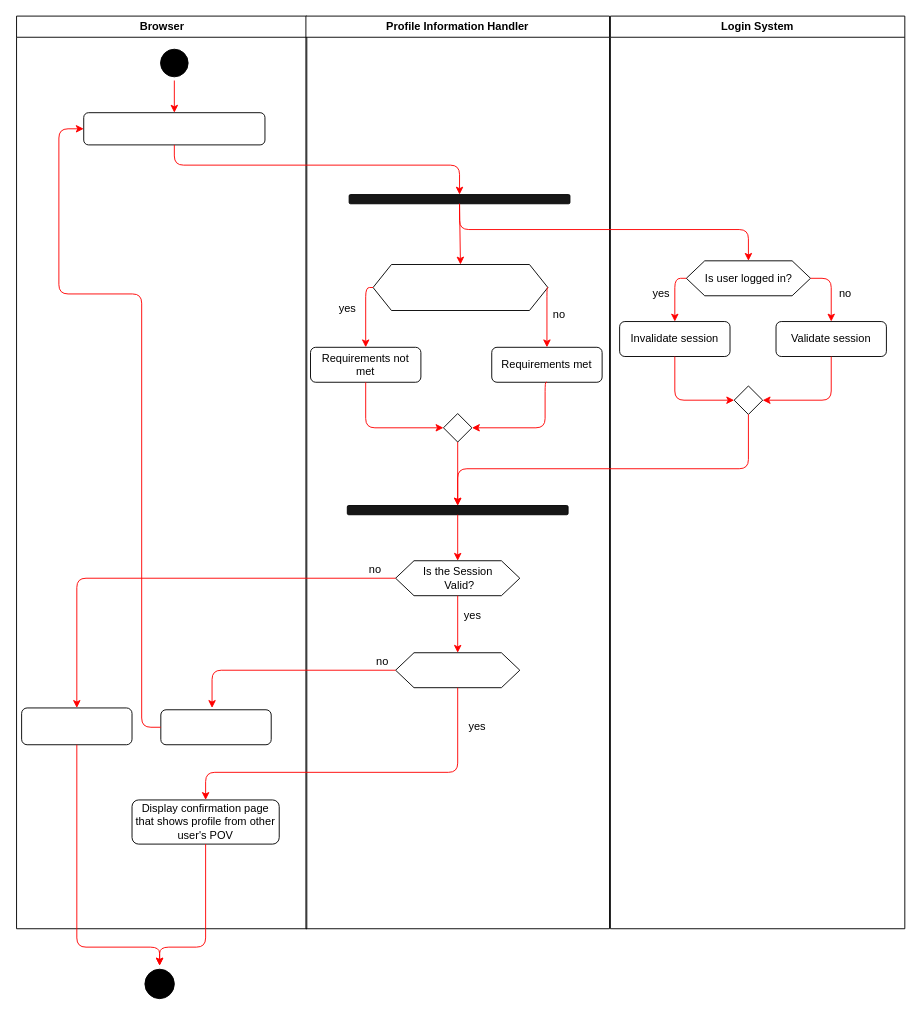
Some shapes in this 921 by 1018 pixel diagram are drawn without their labels. The centre of each missing label's shape, as x and y in pixels:
"Are required fields filled and threshold of non-required fields filled ?" belongs at (460,287).
"Are Requirements Met?" belongs at (457,670).
"Prompt user for missing information" belongs at (215,727).
"Redirect to Login Page" belongs at (76,726).
"User submits profile information" belongs at (174,128).
